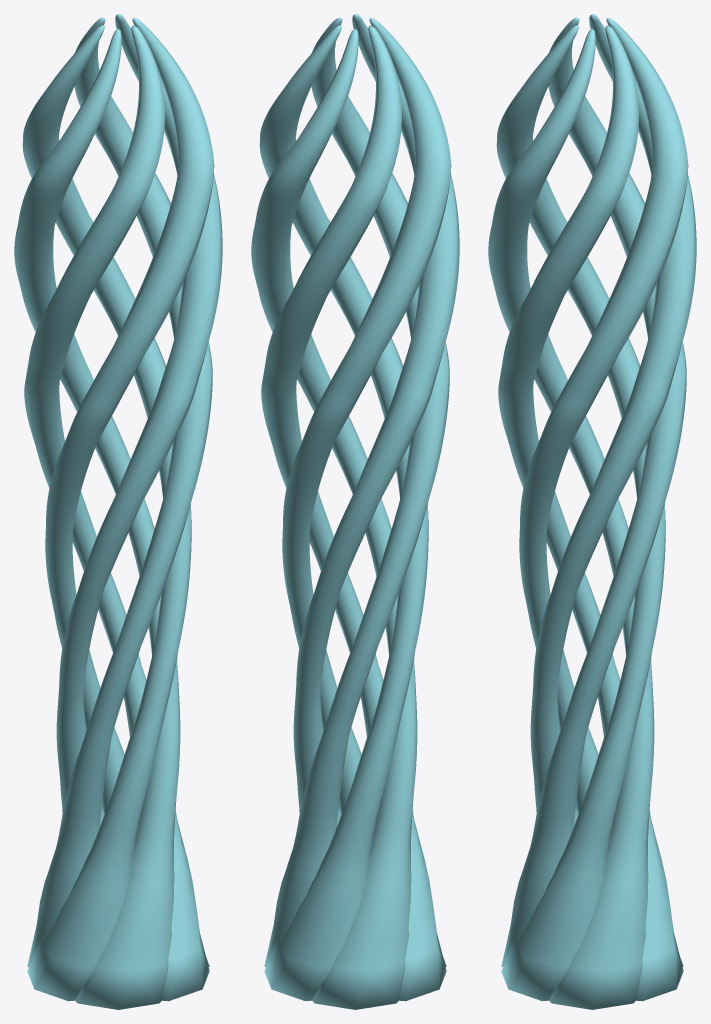
The model's file is Swirled Pillar_1.fbx.
3 renders of one model, left to right at view 1: azimuth 30°, elevation 25°; view 2: azimuth 150°, elevation 25°; view 3: azimuth 270°, elevation 25°, orthographic.
Visible parts, largest first — view 1: Plane.050; view 2: Plane.050; view 3: Plane.050.
Part boxes in pixels (box(x1,y1,x2,y2)): Plane.050: box(14, 14, 222, 1009); Plane.050: box(251, 14, 459, 1009); Plane.050: box(488, 14, 696, 1009).
Size of the model in its own units: 5.11 by 25.55 by 5.09.
